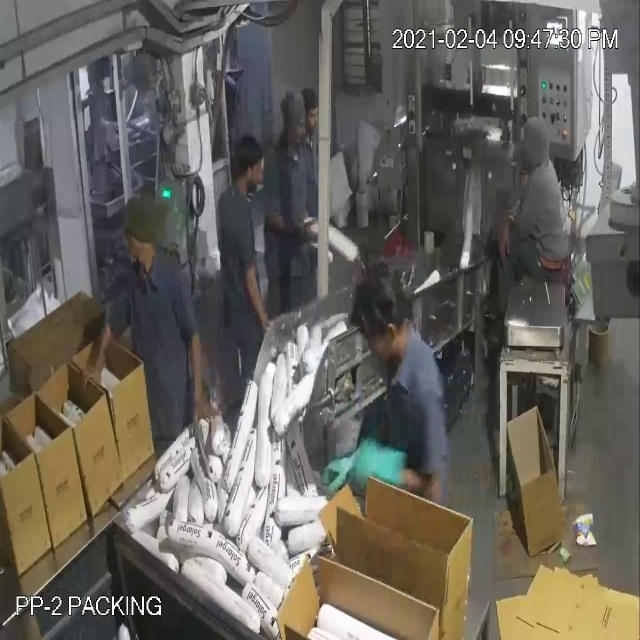Guantes: (341, 436, 412, 494), (320, 445, 369, 495)
Sin_guantes: (175, 321, 211, 428), (235, 250, 276, 338), (78, 309, 120, 394), (258, 200, 315, 252), (495, 212, 519, 270)
